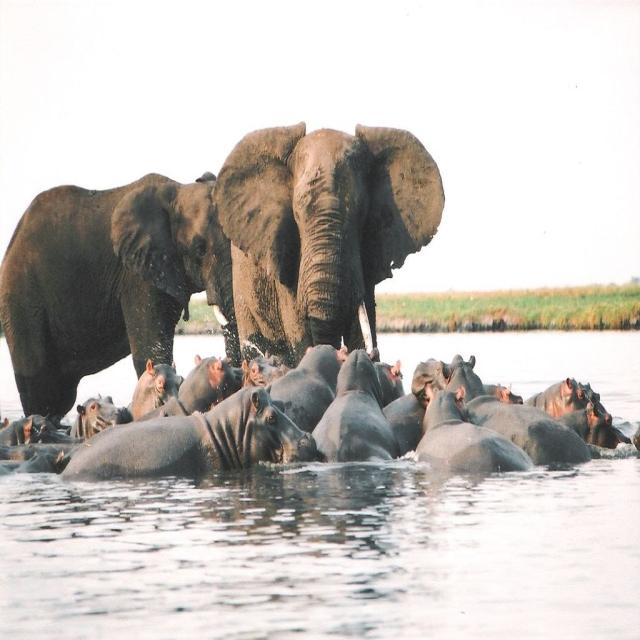Elephant: (0, 170, 241, 425), (211, 120, 445, 368)
